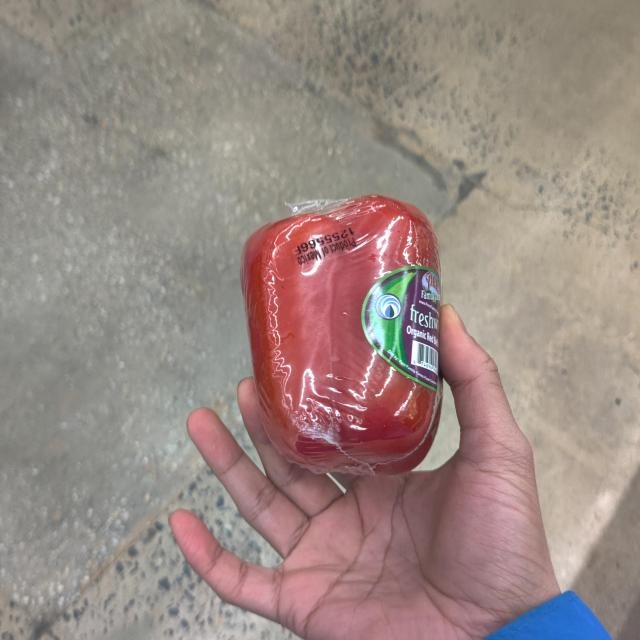Milk: (242, 196, 444, 474)
